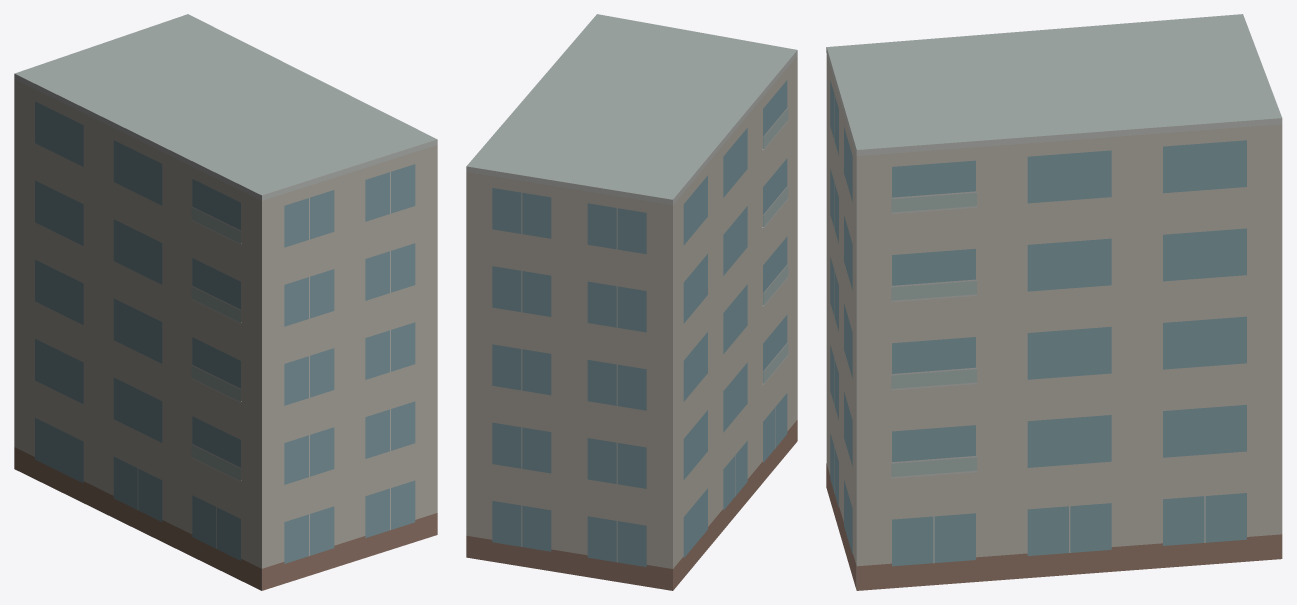
The model's file is survey-upis-32934933.glb.
3 views of the same model, side by side, from view 1: azimuth 30°, elevation 25°; view 2: azimuth 150°, elevation 25°; view 3: azimuth 270°, elevation 25° (orthographic). The views are drawn at different scales.
Parts seen in each view (by area): view 1: survey-upis-32934933.tmp; view 2: survey-upis-32934933.tmp; view 3: survey-upis-32934933.tmp.
Boxes of the visible parts, x1,y1,x2,y2 form: survey-upis-32934933.tmp: (14,14,437,590); survey-upis-32934933.tmp: (466,14,797,590); survey-upis-32934933.tmp: (826,14,1282,590).
Bounding box in the file's own units: 11.72 × 17.7 × 16.59.
